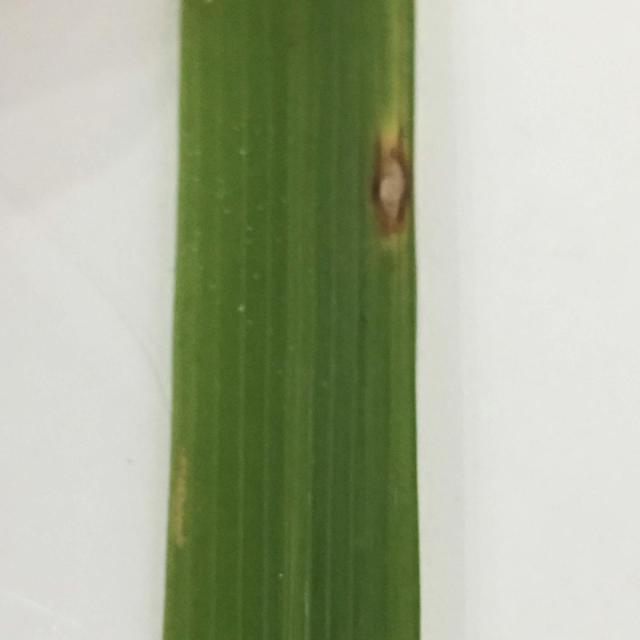Leaf blast: (159, 1, 438, 640)
